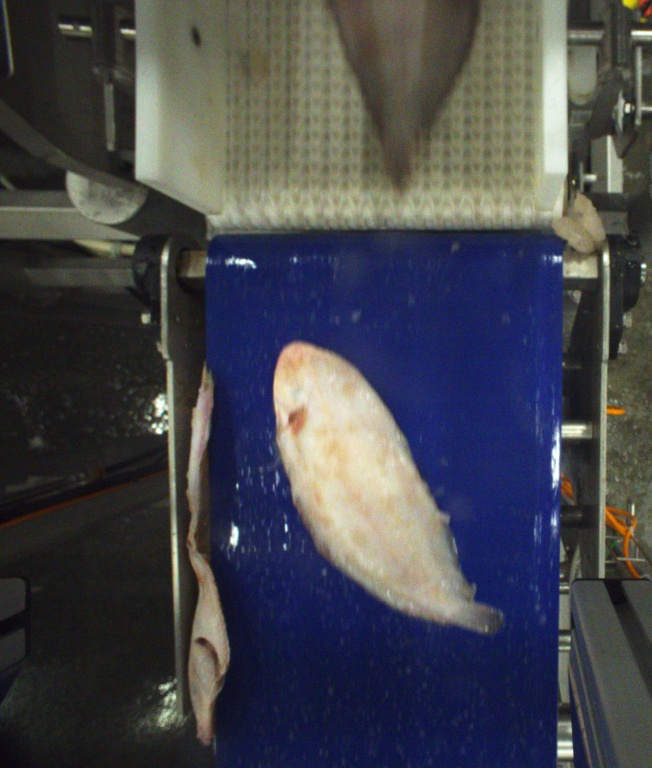SOL: (268, 341, 508, 643)
